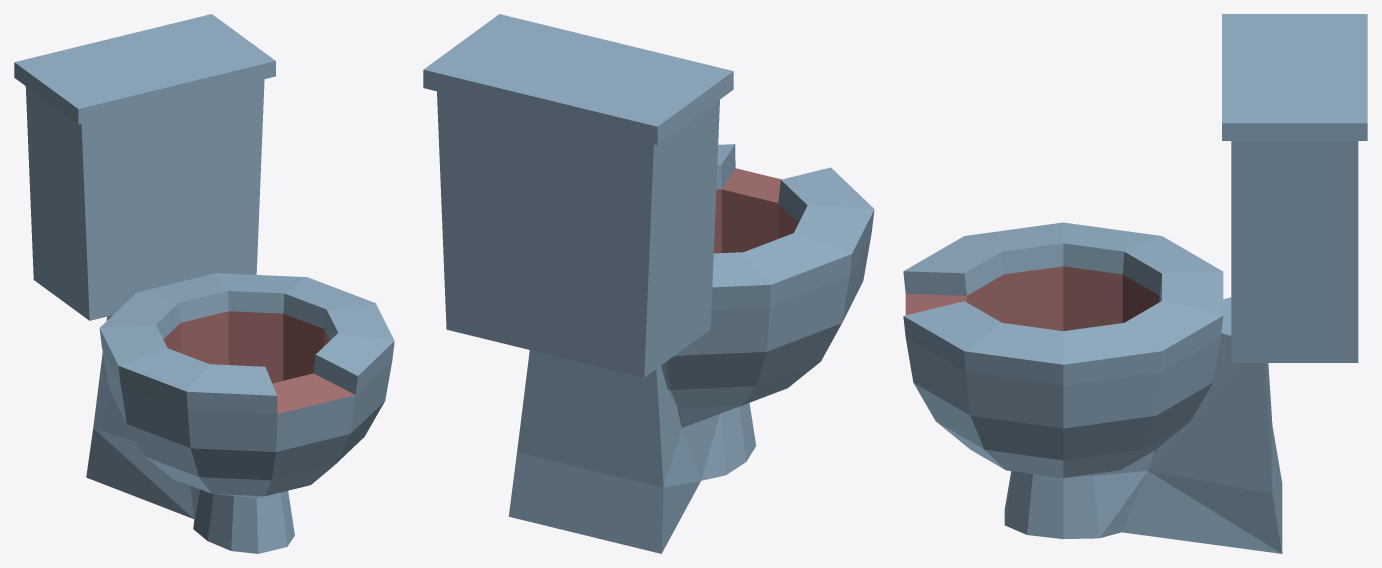
The model's file is toilet.fbx.
The picture shows the model from 3 angles, left to right: view 1: azimuth 30°, elevation 25°; view 2: azimuth 150°, elevation 25°; view 3: azimuth 270°, elevation 25°; orthographic projection. The views are drawn at different scales.
Visible parts, largest first — view 1: pSphere2; view 2: pSphere2; view 3: pSphere2.
Boxes of the visible parts, x1,y1,x2,y2 form: pSphere2: (14,14,394,553); pSphere2: (423,14,874,553); pSphere2: (903,14,1367,553).
Size of the model in its own units: 6.36 by 9.37 by 8.77.
